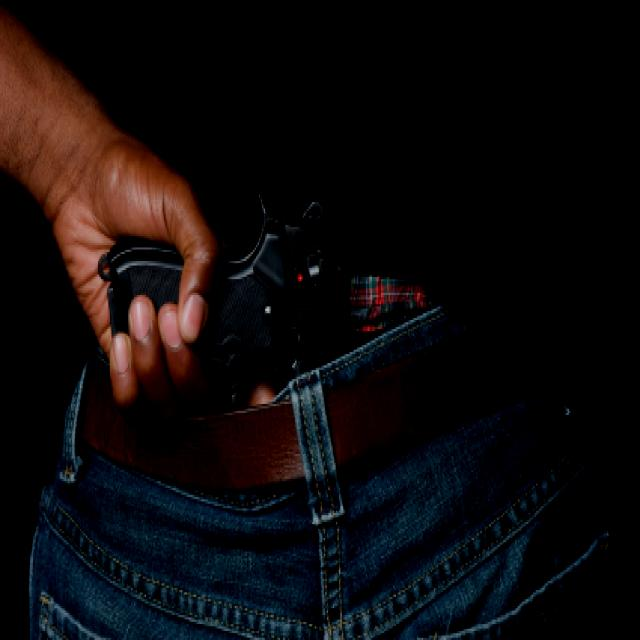pistol: (96, 184, 354, 490)
